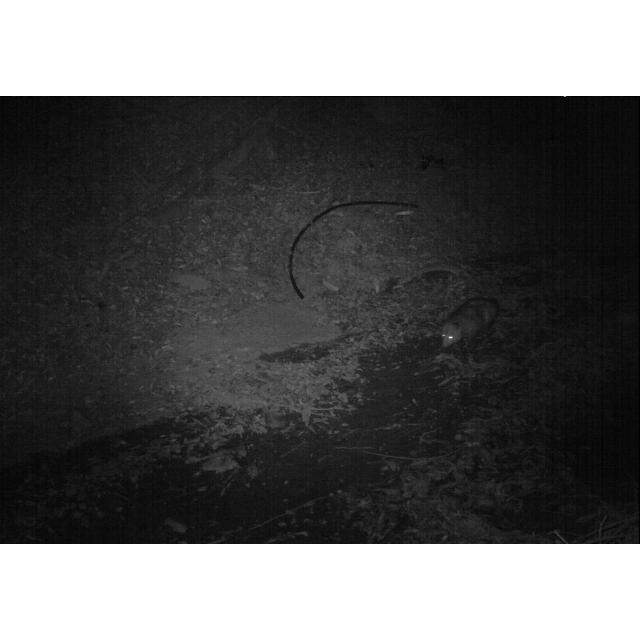animals: (438, 293, 498, 351)
